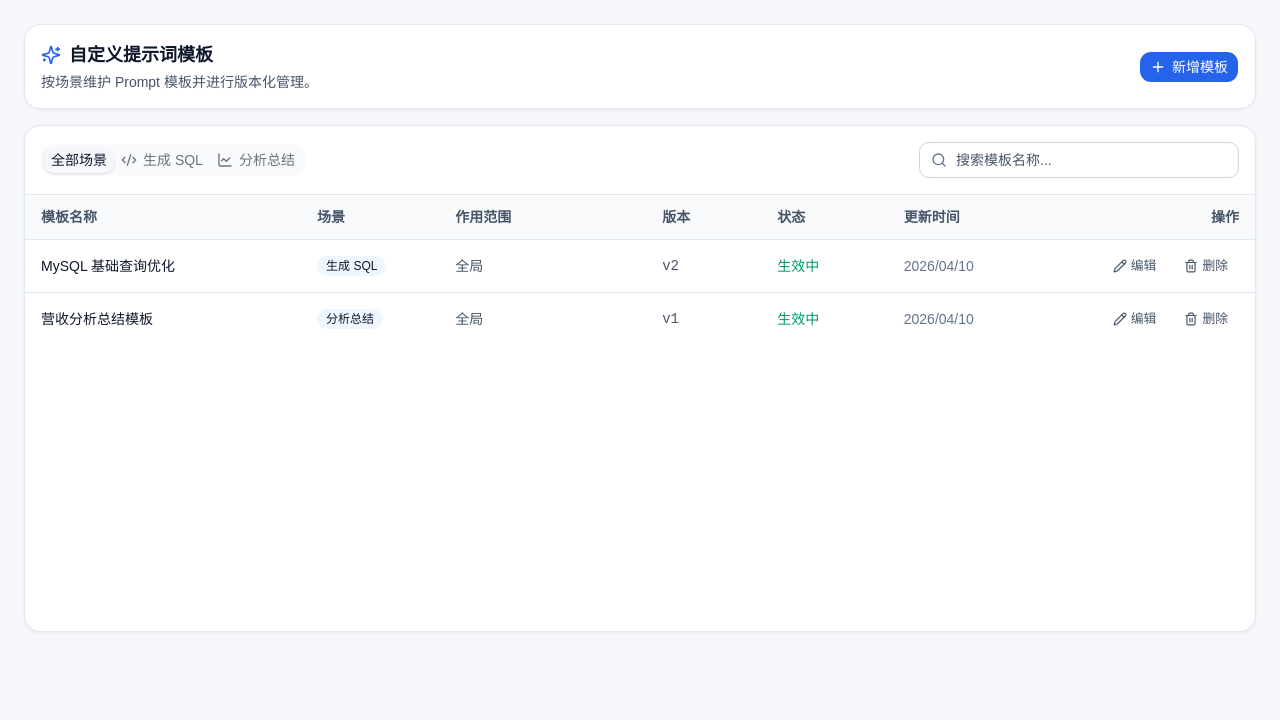
Test case: PromptsPage › shows minimal error message for CONFLICT
The image size is (1280, 720).
Expected: the text "MySQL 基础查询优化" is shown, x1=25 y1=239 x2=301 y2=292
Click the button "新增模板". click: [1189, 66]
box: x1=1139 y1=50 x2=1239 y2=82
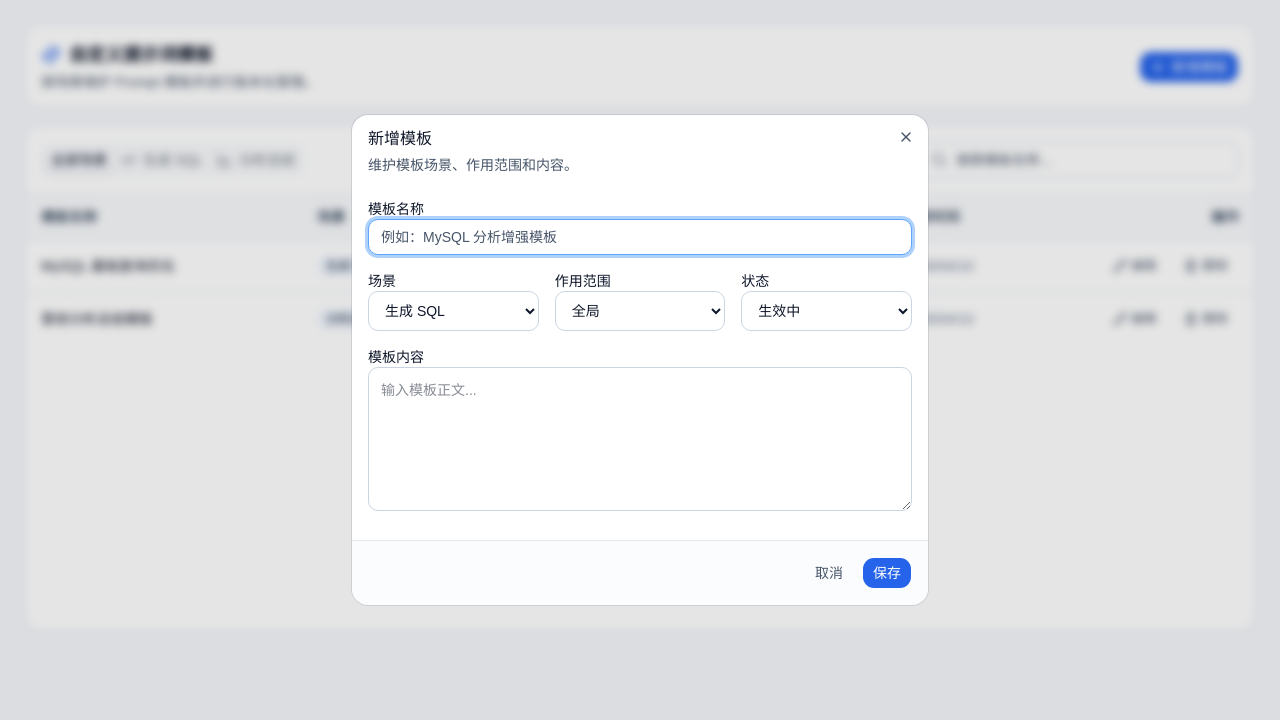
Type "失败模板" into the field labelled "模板名称". click: [640, 237]
box: x1=368 y1=219 x2=912 y2=255
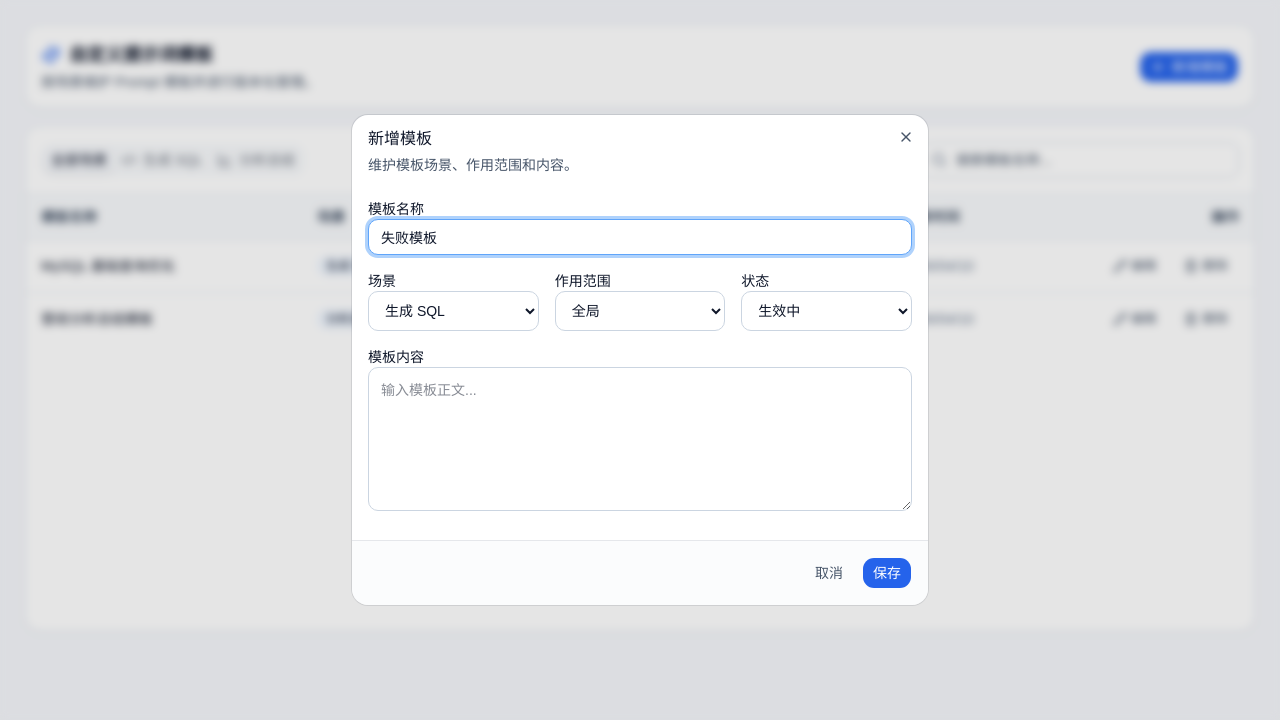
Type "prompt template body" into the text box labelled "模板内容". click: [640, 439]
box: x1=368 y1=367 x2=912 y2=511
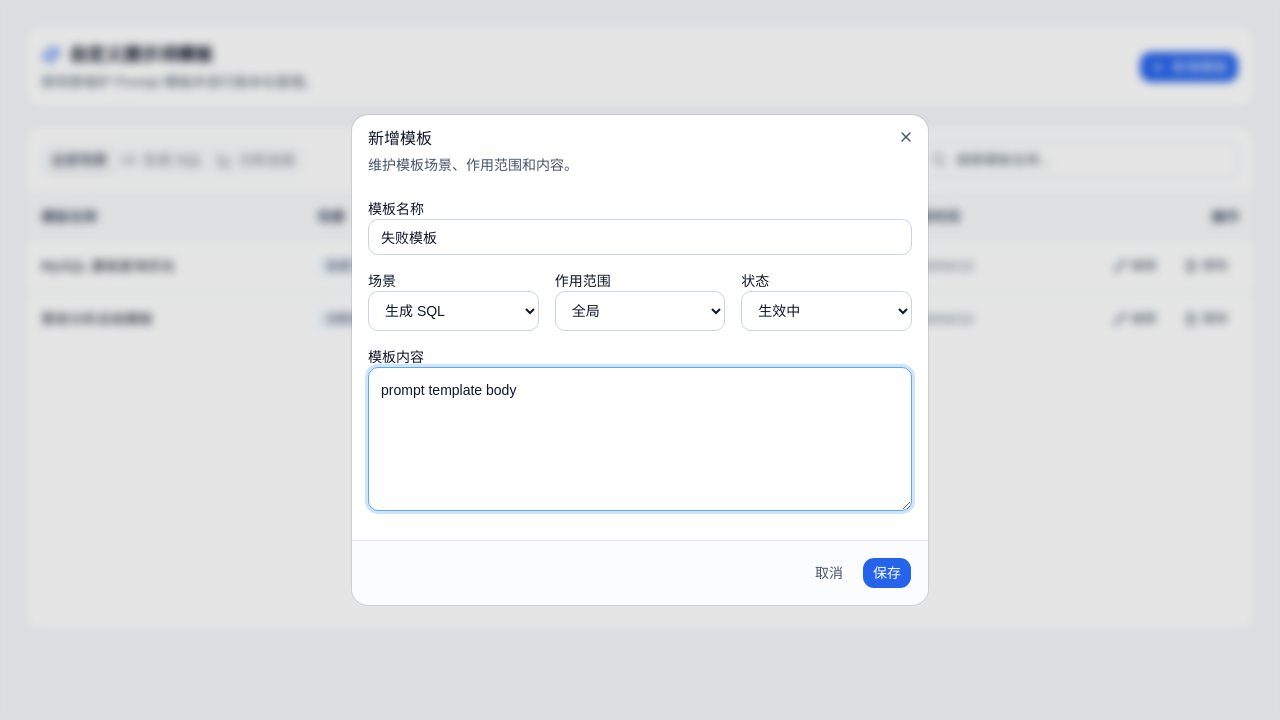
Click the button "保存". click: [887, 573]
box: x1=862 y1=557 x2=912 y2=589
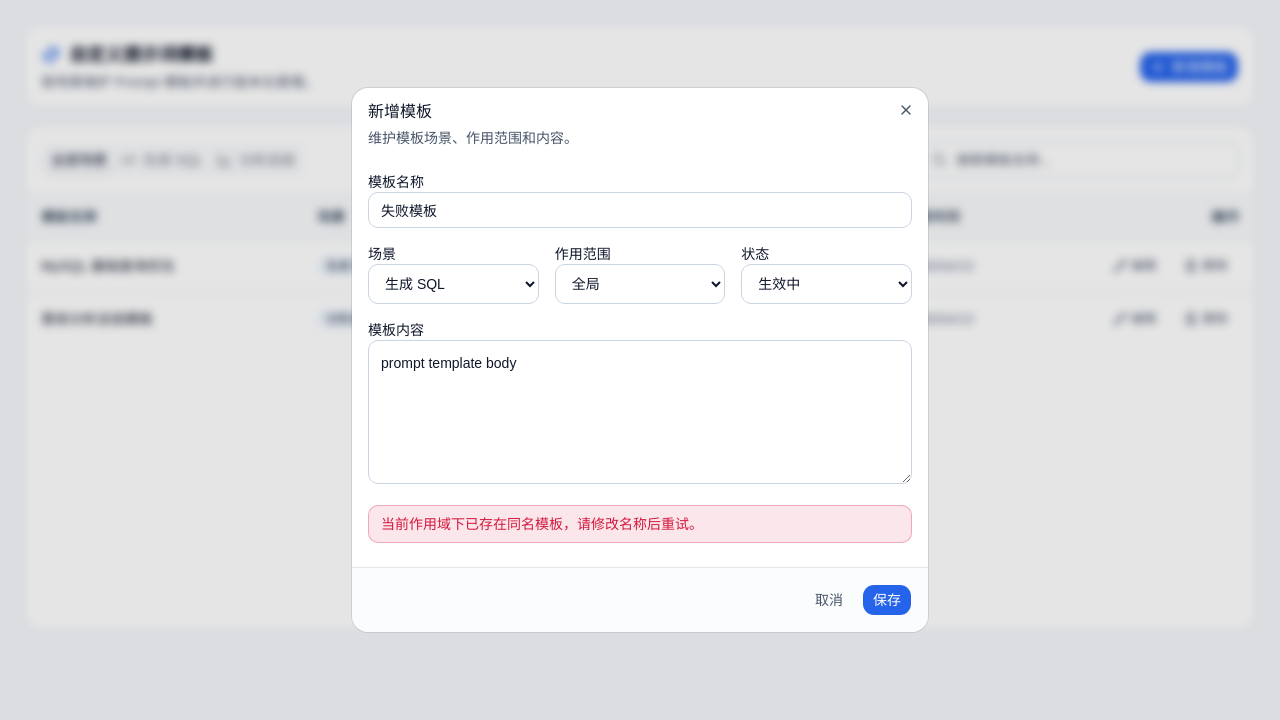
Expected: the text "当前作用域下已存在同名模板，请修改名称后重试。" is shown, x1=368 y1=505 x2=912 y2=543
